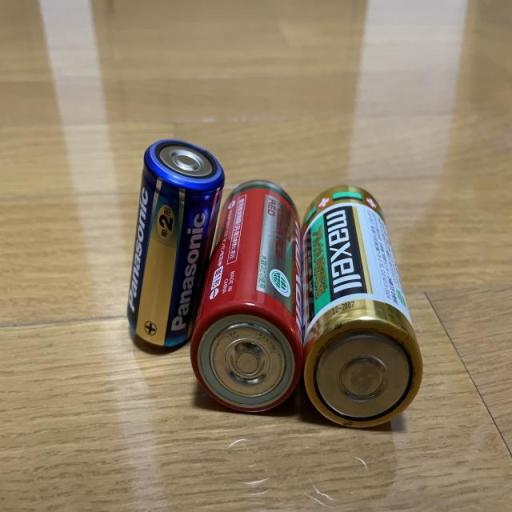battery: (302, 182, 424, 432), (189, 178, 304, 416), (126, 137, 226, 349)
